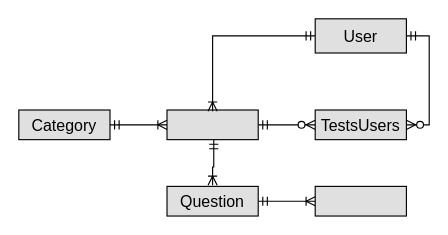
Some shapes in this 448 by 235 pixel diagram are drawn without their labels. Here are the shapes that lost their labels. From the top down, the box of each, then its label:
(166, 109, 258, 140): Test
(314, 185, 406, 216): Answer
